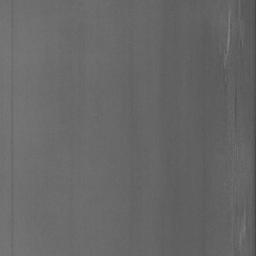Silk spot: (235, 0, 256, 256), (216, 53, 228, 96), (232, 88, 237, 132), (235, 0, 247, 18)
